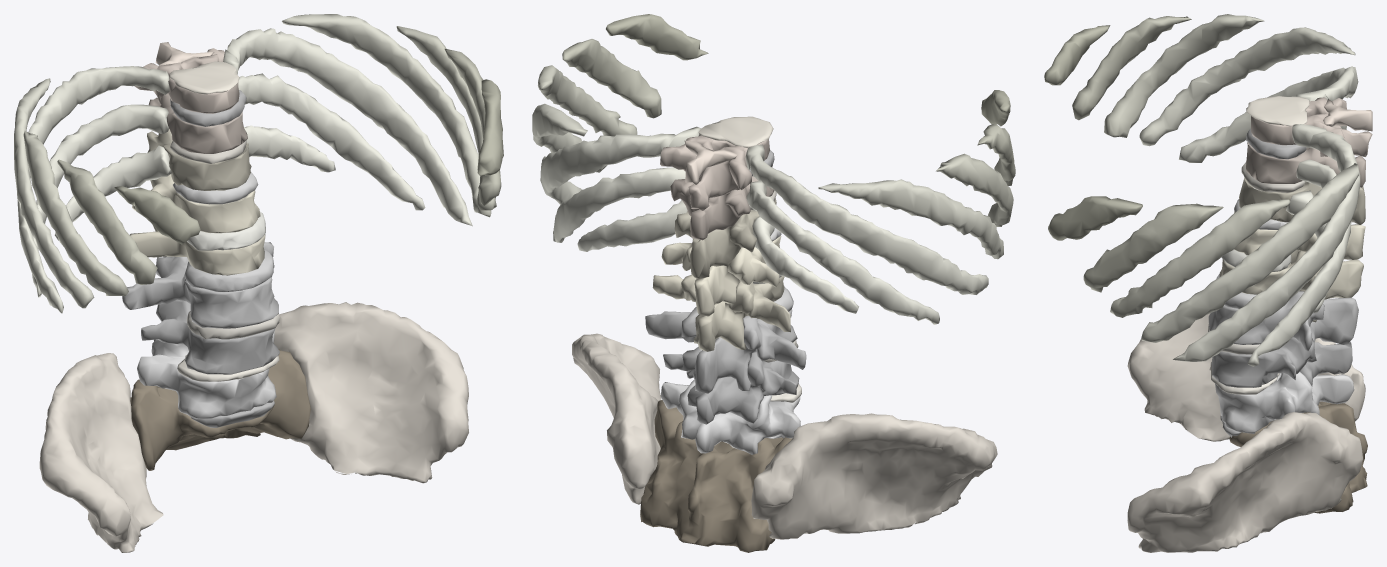
The model's file is Skeletal System.gltf.
3 renders of one model, left to right at view 1: azimuth 30°, elevation 25°; view 2: azimuth 150°, elevation 25°; view 3: azimuth 270°, elevation 25°, orthographic. The views are drawn at different scales.
Parts seen in each view (by area): view 1: Pelvis, Rib10, Rib9, Rib11, Sacrum, Rib8, Lumbar3, Lumbar5, Rib7, Lumbar4, Rib12, Rib6 (+15 smaller); view 2: Pelvis, Sacrum, Rib10, Rib11, Rib9, Lumbar3, Rib12, Rib8, Lumbar5, Lumbar2, Lumbar4, Rib7 (+7 smaller); view 3: Pelvis, Rib9, Rib10, Rib8, Rib7, Lumbar5, Lumbar4, Rib6, Lumbar3, Rib11, Thoracic10, Thoracic11 (+11 smaller).
Boxes of the visible parts, x1,y1,x2,y2 form: Pelvis: (39,302,468,552); Rib10: (17,28,472,313); Rib9: (14,14,491,308); Rib11: (29,73,425,297); Sacrum: (130,349,310,470); Rib8: (23,26,496,295); Lumbar3: (122,242,278,328); Lumbar5: (137,330,276,418); Rib7: (57,48,501,284); Lumbar4: (141,299,279,374); Rib12: (54,125,335,240); Rib6: (114,79,503,244); Pelvis: (572,333,997,539); Sacrum: (640,400,792,552); Rib10: (540,126,988,294); Rib11: (553,167,939,324); Rib9: (532,103,1003,259); Lumbar3: (645,307,806,393); Rib12: (577,200,858,313); Rib8: (538,65,1013,226); Lumbar5: (660,380,800,454); Lumbar2: (652,274,790,351); Lumbar4: (663,346,799,424); Rib7: (562,39,1015,185); Pelvis: (1127,313,1365,552); Rib9: (1139,27,1358,342); Rib10: (1173,66,1360,361); Rib8: (1104,14,1290,317); Rib7: (1072,16,1223,292); Lumbar5: (1215,372,1354,433); Lumbar4: (1211,337,1352,387); Rib6: (1044,25,1142,240); Lumbar3: (1208,291,1358,362); Rib11: (1247,126,1351,366); Thoracic10: (1251,97,1372,156); Thoracic11: (1246,142,1365,187).
Bounding box in the file's own units: 196 × 167 × 133.
